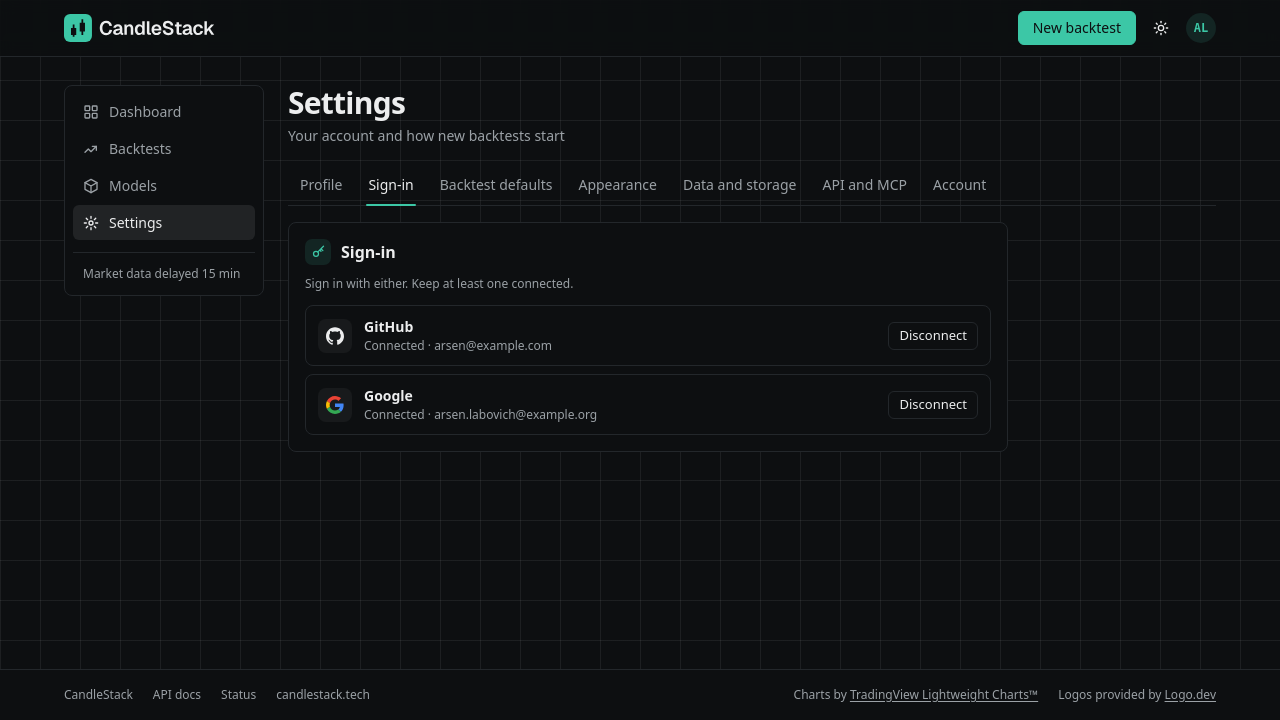
Scenario: Sign-in › disconnects one of two; the other then is the only one
The width and height of the screenshot is (1280, 720).
Step 1. Click the button "Disconnect" in the row of "Connected · arsen.labovich@example.org" → (933, 404), box [888, 390, 978, 418]
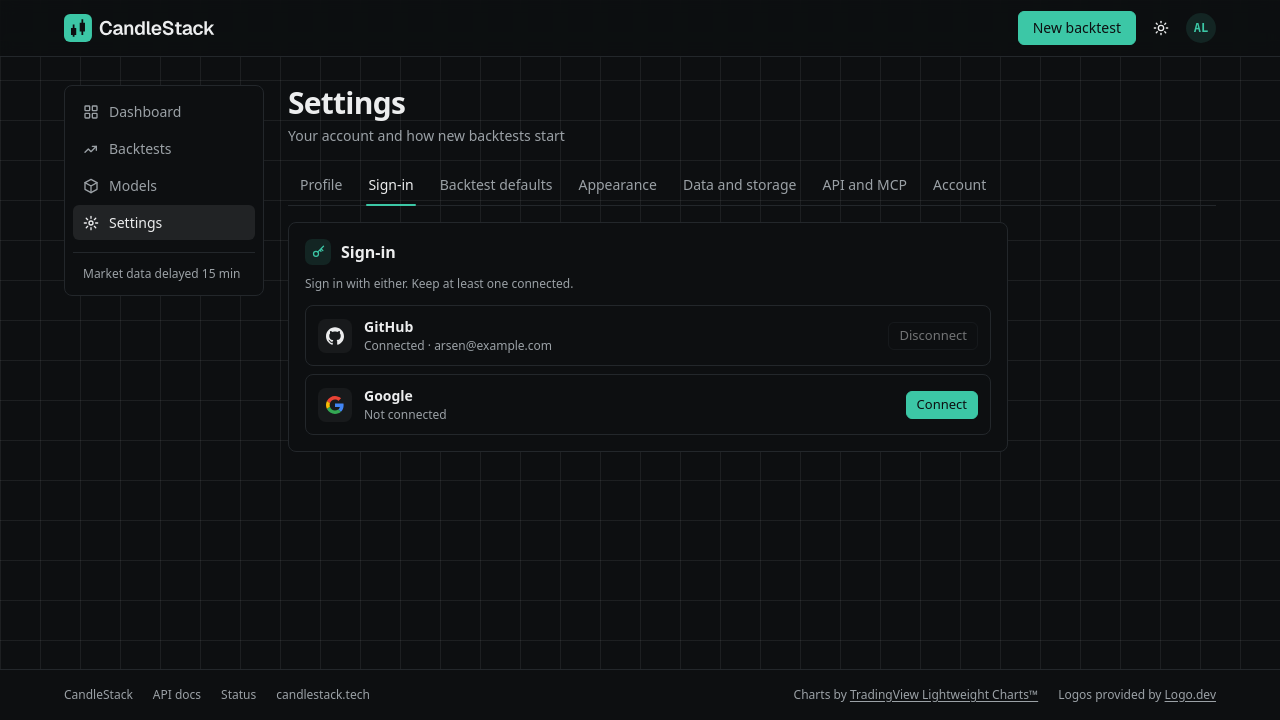
Now the text "Not connected" is shown, box [364, 406, 447, 423]
Now the button "Disconnect" is disabled, box [888, 322, 978, 350]
